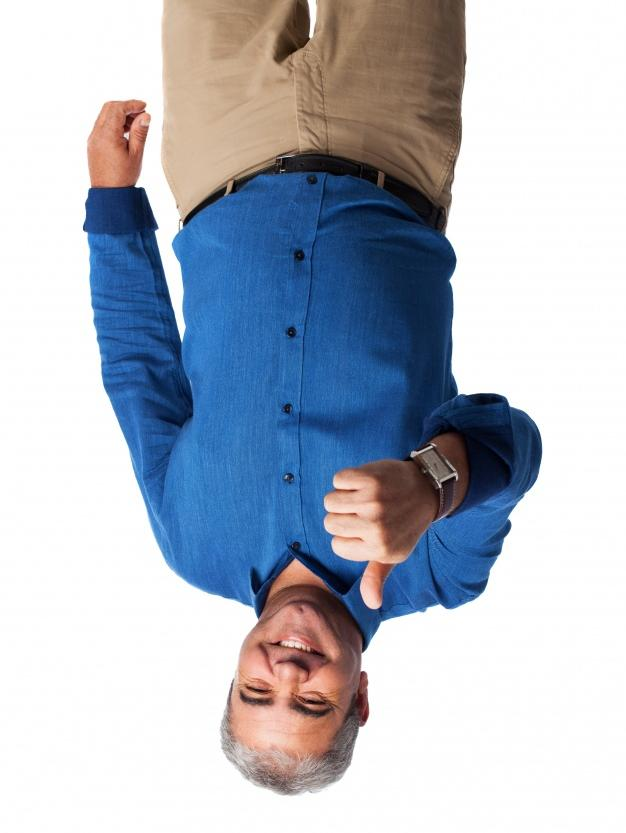thumbsdown: (323, 465, 395, 611)
